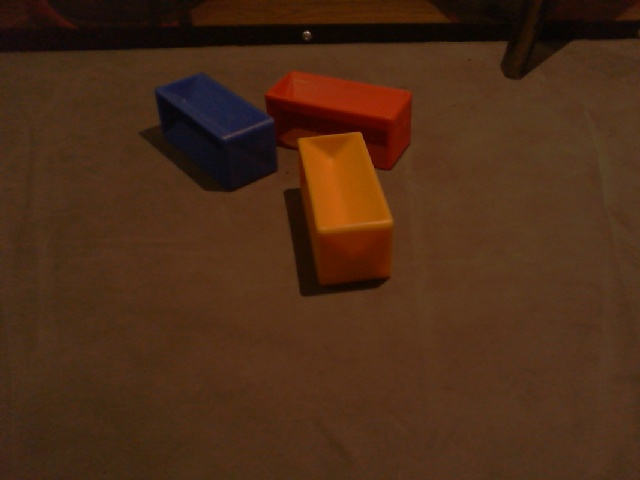BlueSample: (153, 70, 279, 194)
RedSample: (267, 66, 414, 171)
YellowSample: (297, 128, 395, 290)
